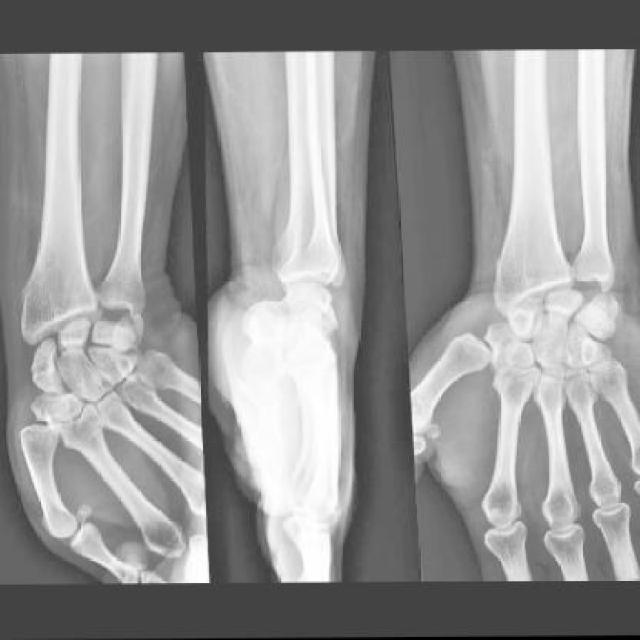Fracture: (112, 314, 145, 350), (602, 297, 621, 325)
